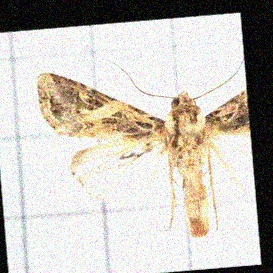Spodoptera litura: (42, 56, 250, 243)
